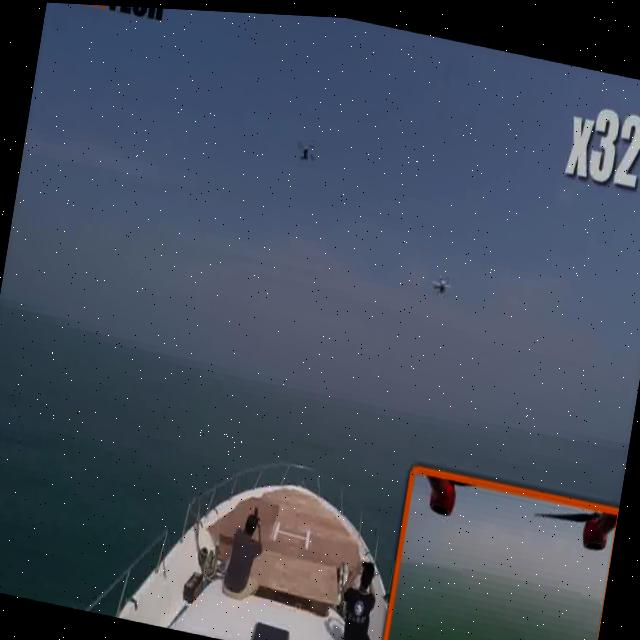drone: (286, 131, 322, 173), (423, 260, 457, 297)
